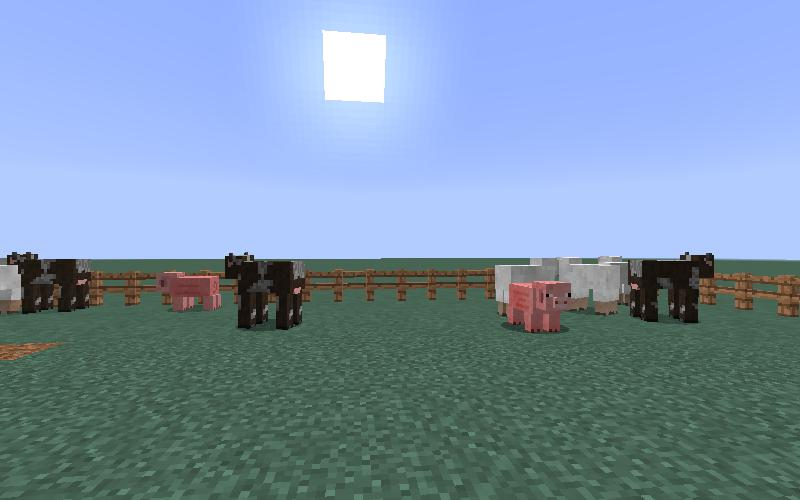cow: (222, 251, 308, 336), (625, 250, 716, 328), (2, 246, 93, 322)
pig: (502, 277, 574, 344), (156, 269, 223, 319)
sheep: (552, 255, 626, 324), (489, 250, 556, 316)
